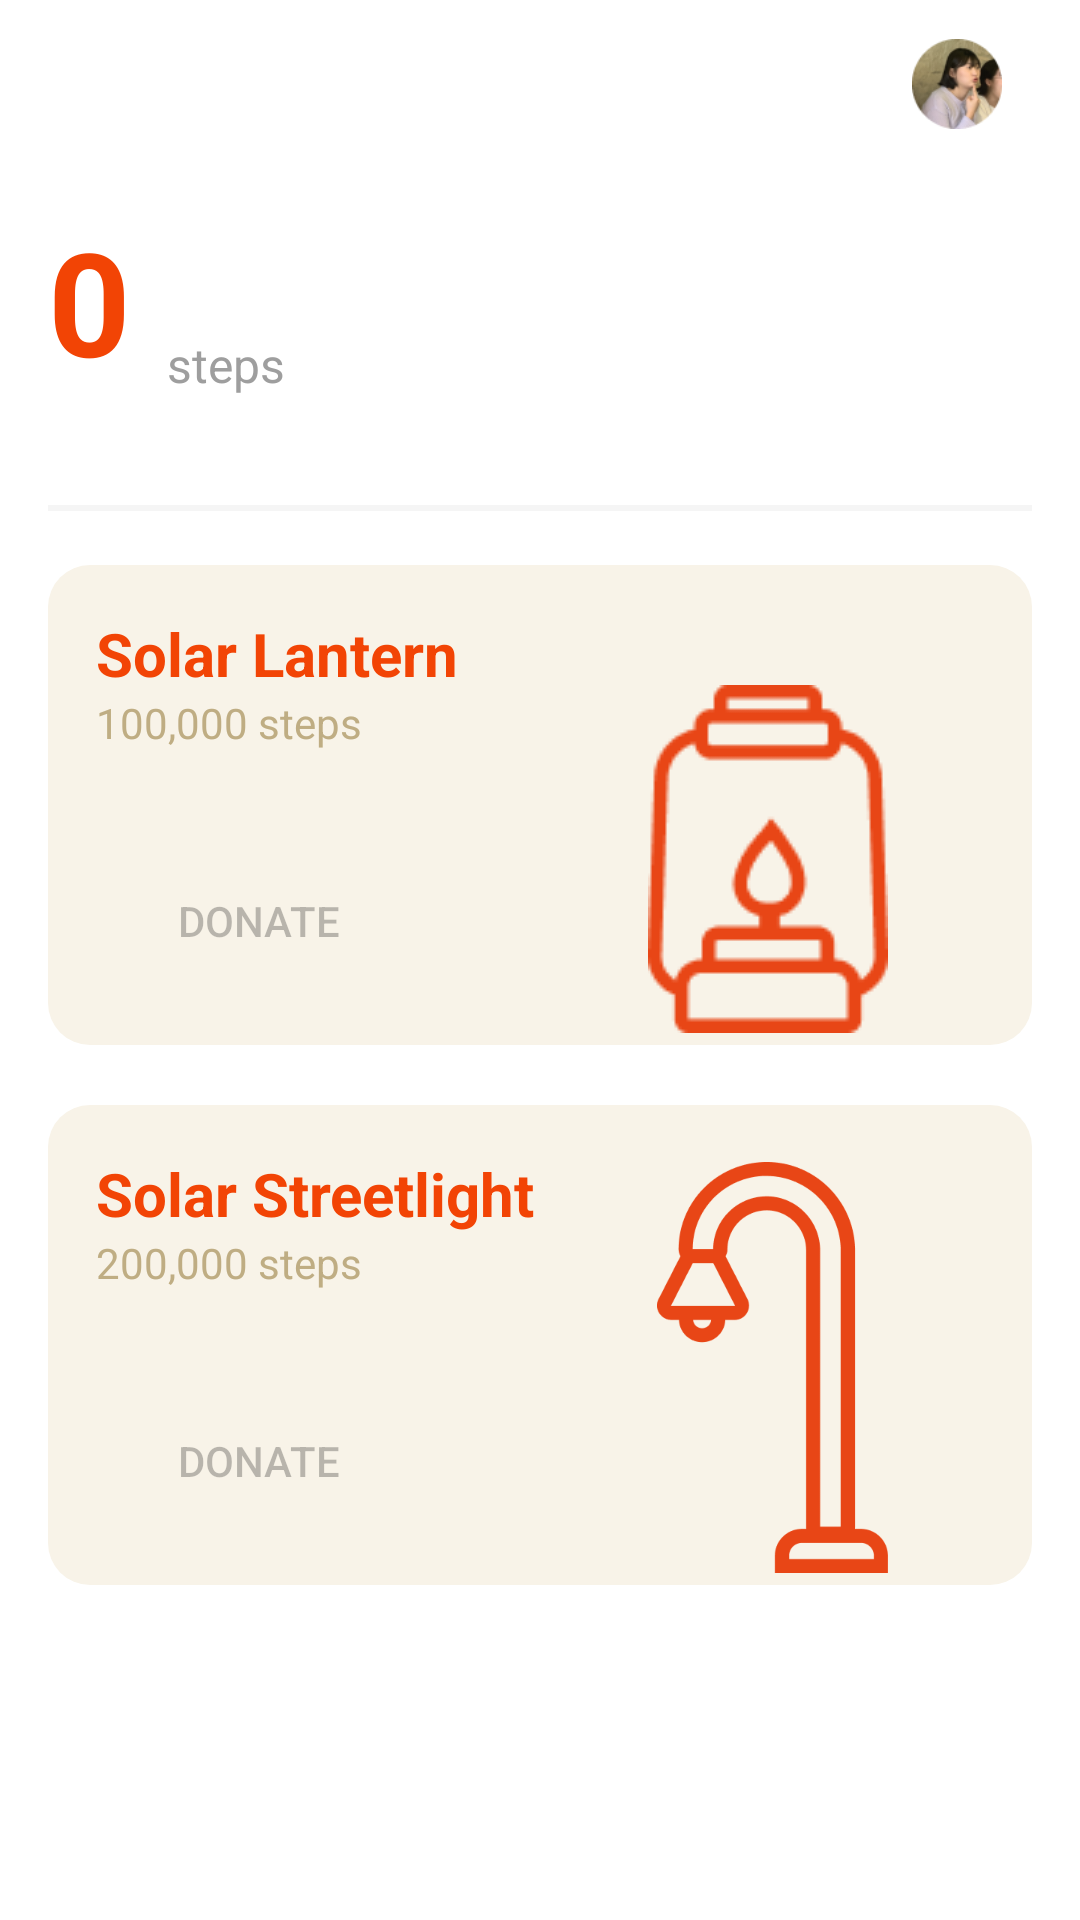

Named icons in this screenshot (1080px x 1920px) and their bounding boxes, Rect(x1, y1, x2, y2):
lantern: Rect(648, 685, 888, 1033)
